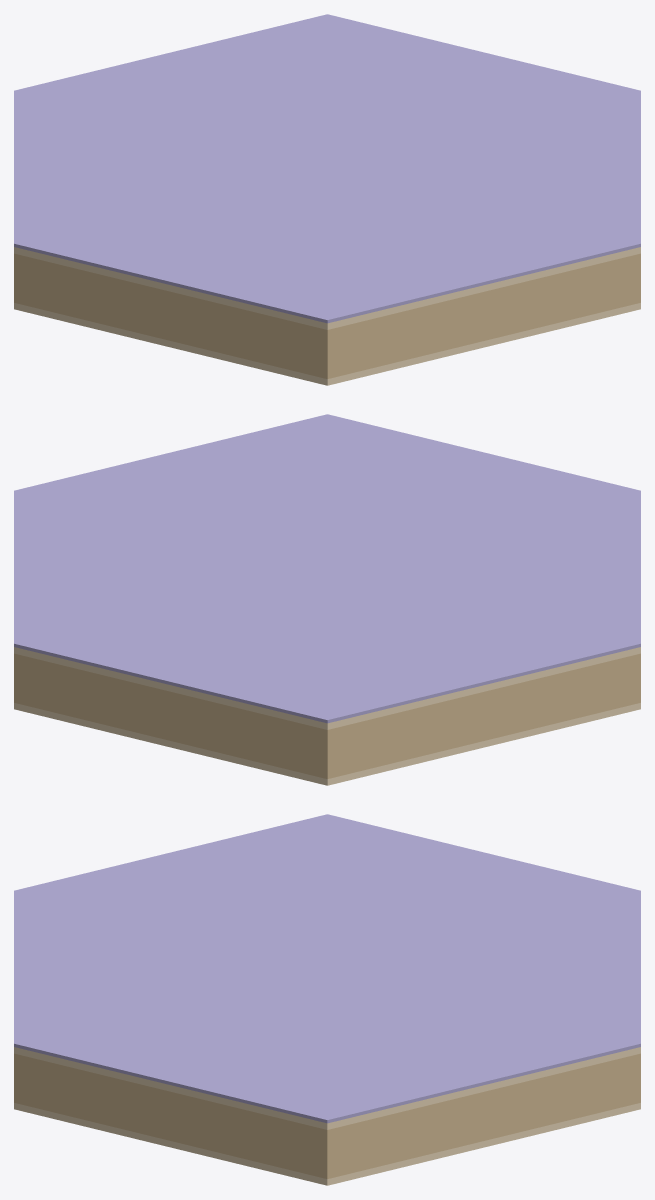
The model's file is terrain.glb.
3 views of the same model, one above another, from view 1: azimuth 30°, elevation 25°; view 2: azimuth 150°, elevation 25°; view 3: azimuth 270°, elevation 25° (orthographic).
Parts seen in each view (by area): view 1: Tile_Crystal_Field_Geometry; view 2: Tile_Crystal_Field_Geometry; view 3: Tile_Crystal_Field_Geometry.
Boxes of the visible parts, box(x1,y1,x2,y2) form: Tile_Crystal_Field_Geometry: box(14, 14, 640, 385); Tile_Crystal_Field_Geometry: box(14, 414, 640, 785); Tile_Crystal_Field_Geometry: box(14, 814, 640, 1185).
Size of the model in its own units: 2 by 0.2 by 1.73.
